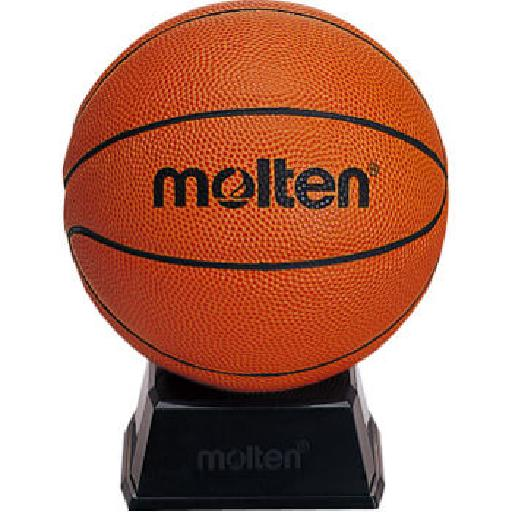ball: (65, 1, 449, 391)
